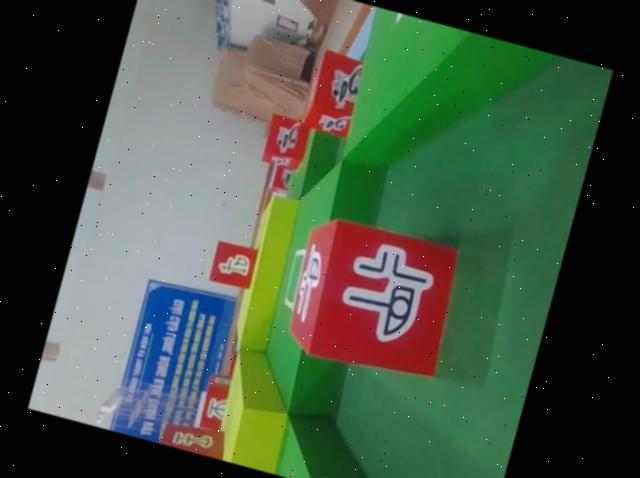R1: (300, 46, 367, 137), (256, 107, 316, 172)
R2 Real: (277, 209, 470, 389), (158, 416, 231, 461), (207, 239, 261, 290)
